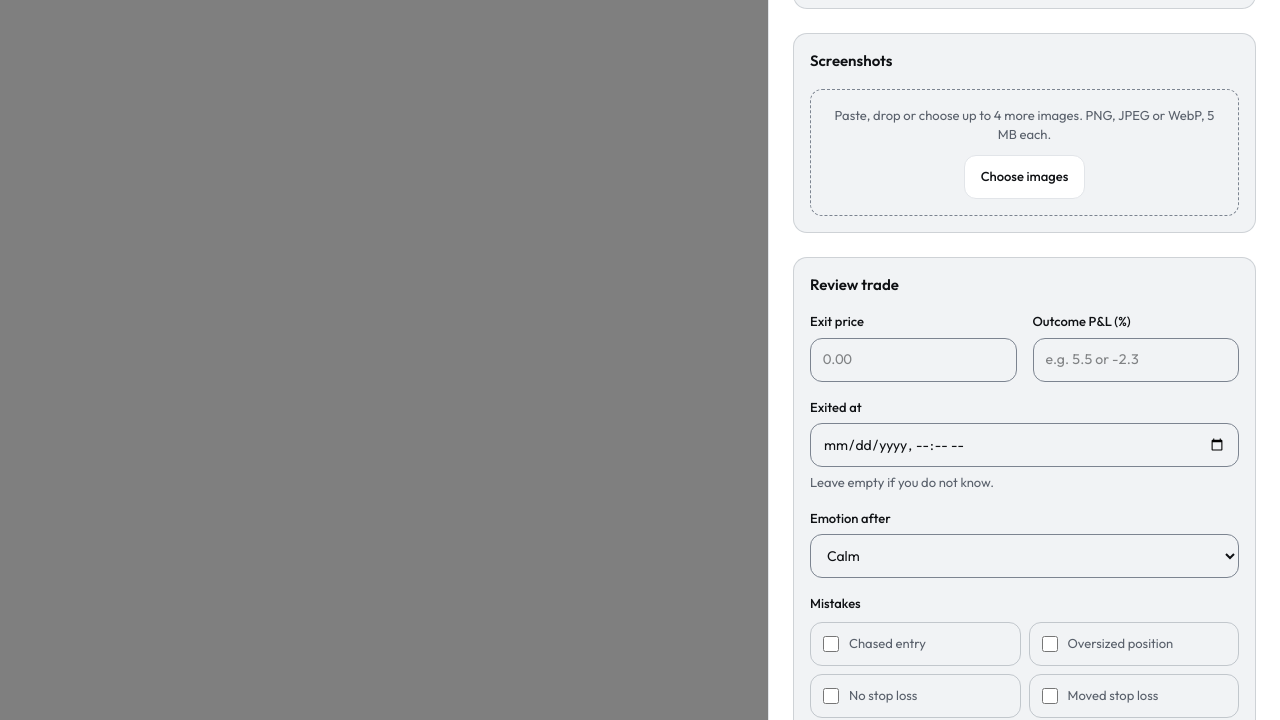
Test: EntrySheet › typing an exit price fills "Exited at" when empty
(page scrolled)
Expected: the field labelled "Exited at" is empty, [810,423,1239,467]
In the number field labelled "Exit price": point(913, 360) [810,338,1016,382], type "64000"
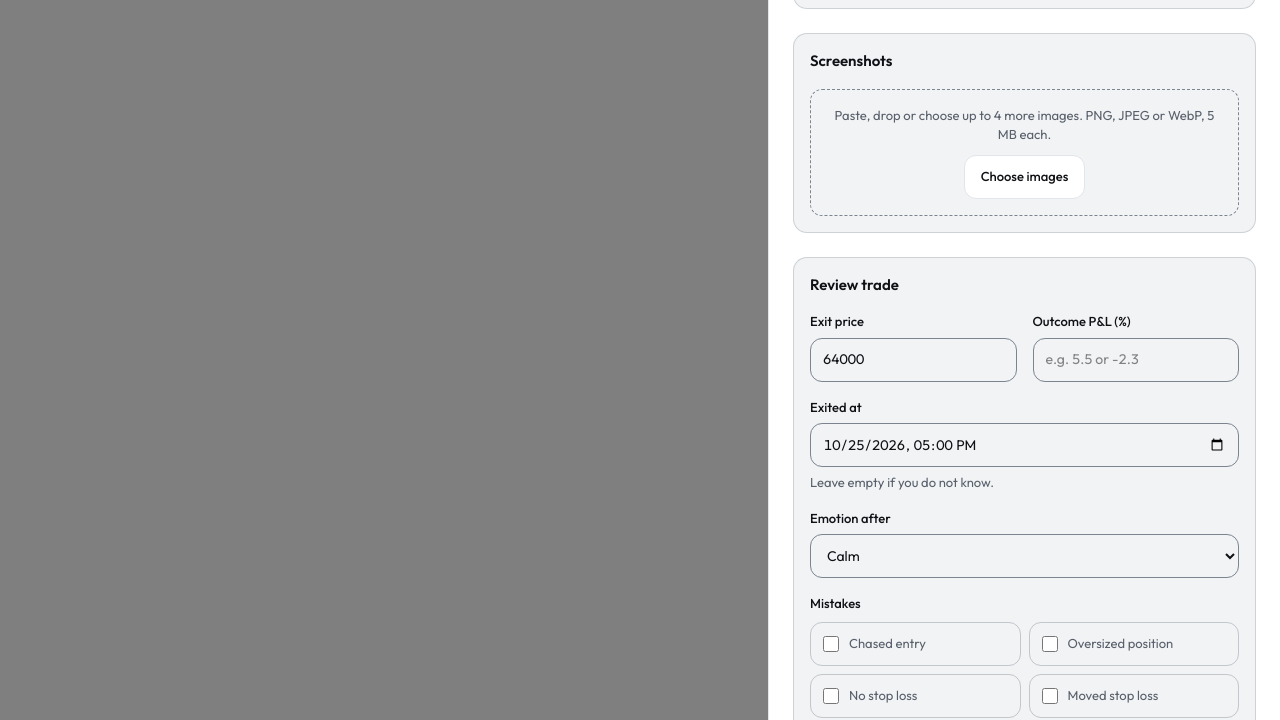
Now the field labelled "Exited at" is not empty, box [810,423,1239,467]
